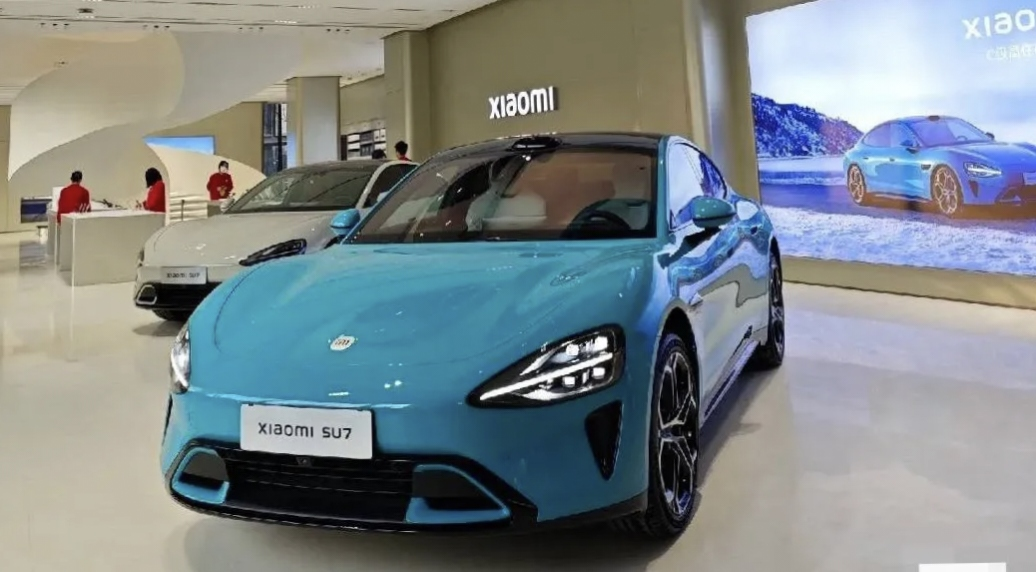su7: (159, 139, 804, 565), (134, 155, 415, 330), (848, 107, 1036, 209)
